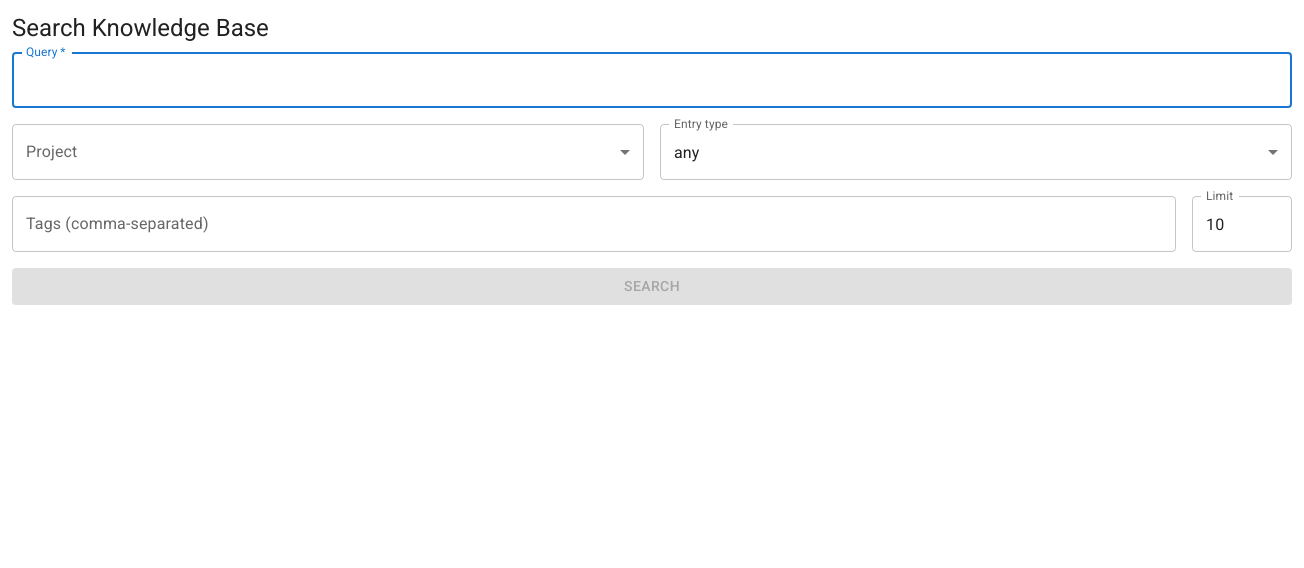
Test: Search page › renders staleness_warning as Alert when non-null
In the field labelled "Query *": (652, 80) [12,52,1292,108], type "test"
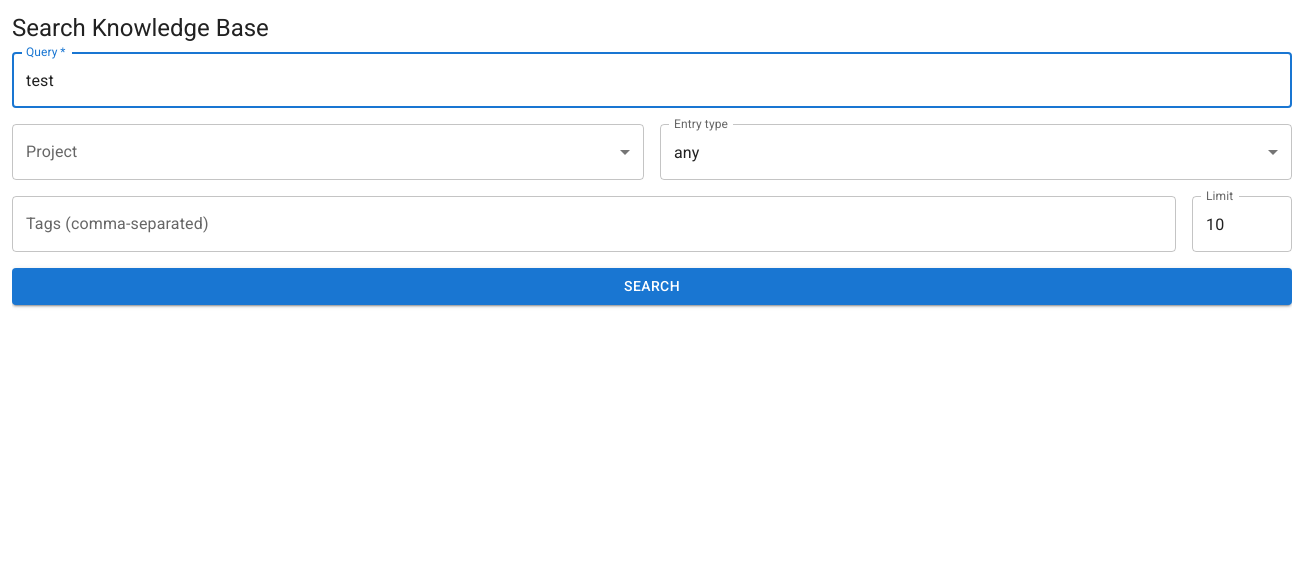
Click the button "Search": (652, 287) [12,268,1292,305]
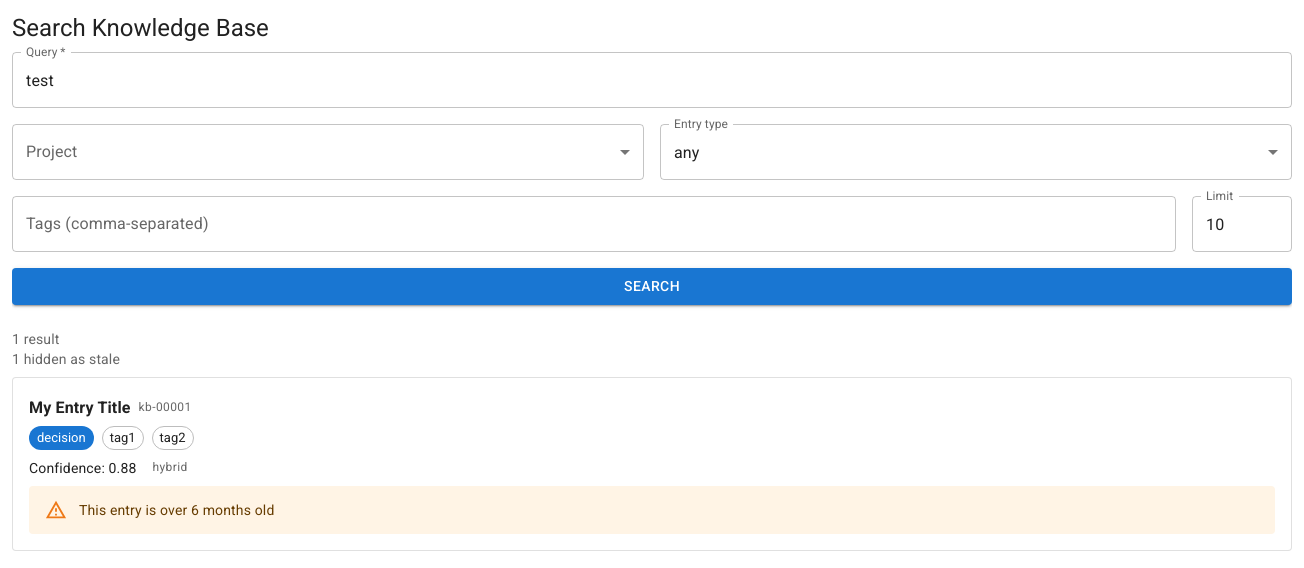
Check: the text "This entry is over 6 months old" is shown, box [79,502,274,518]
